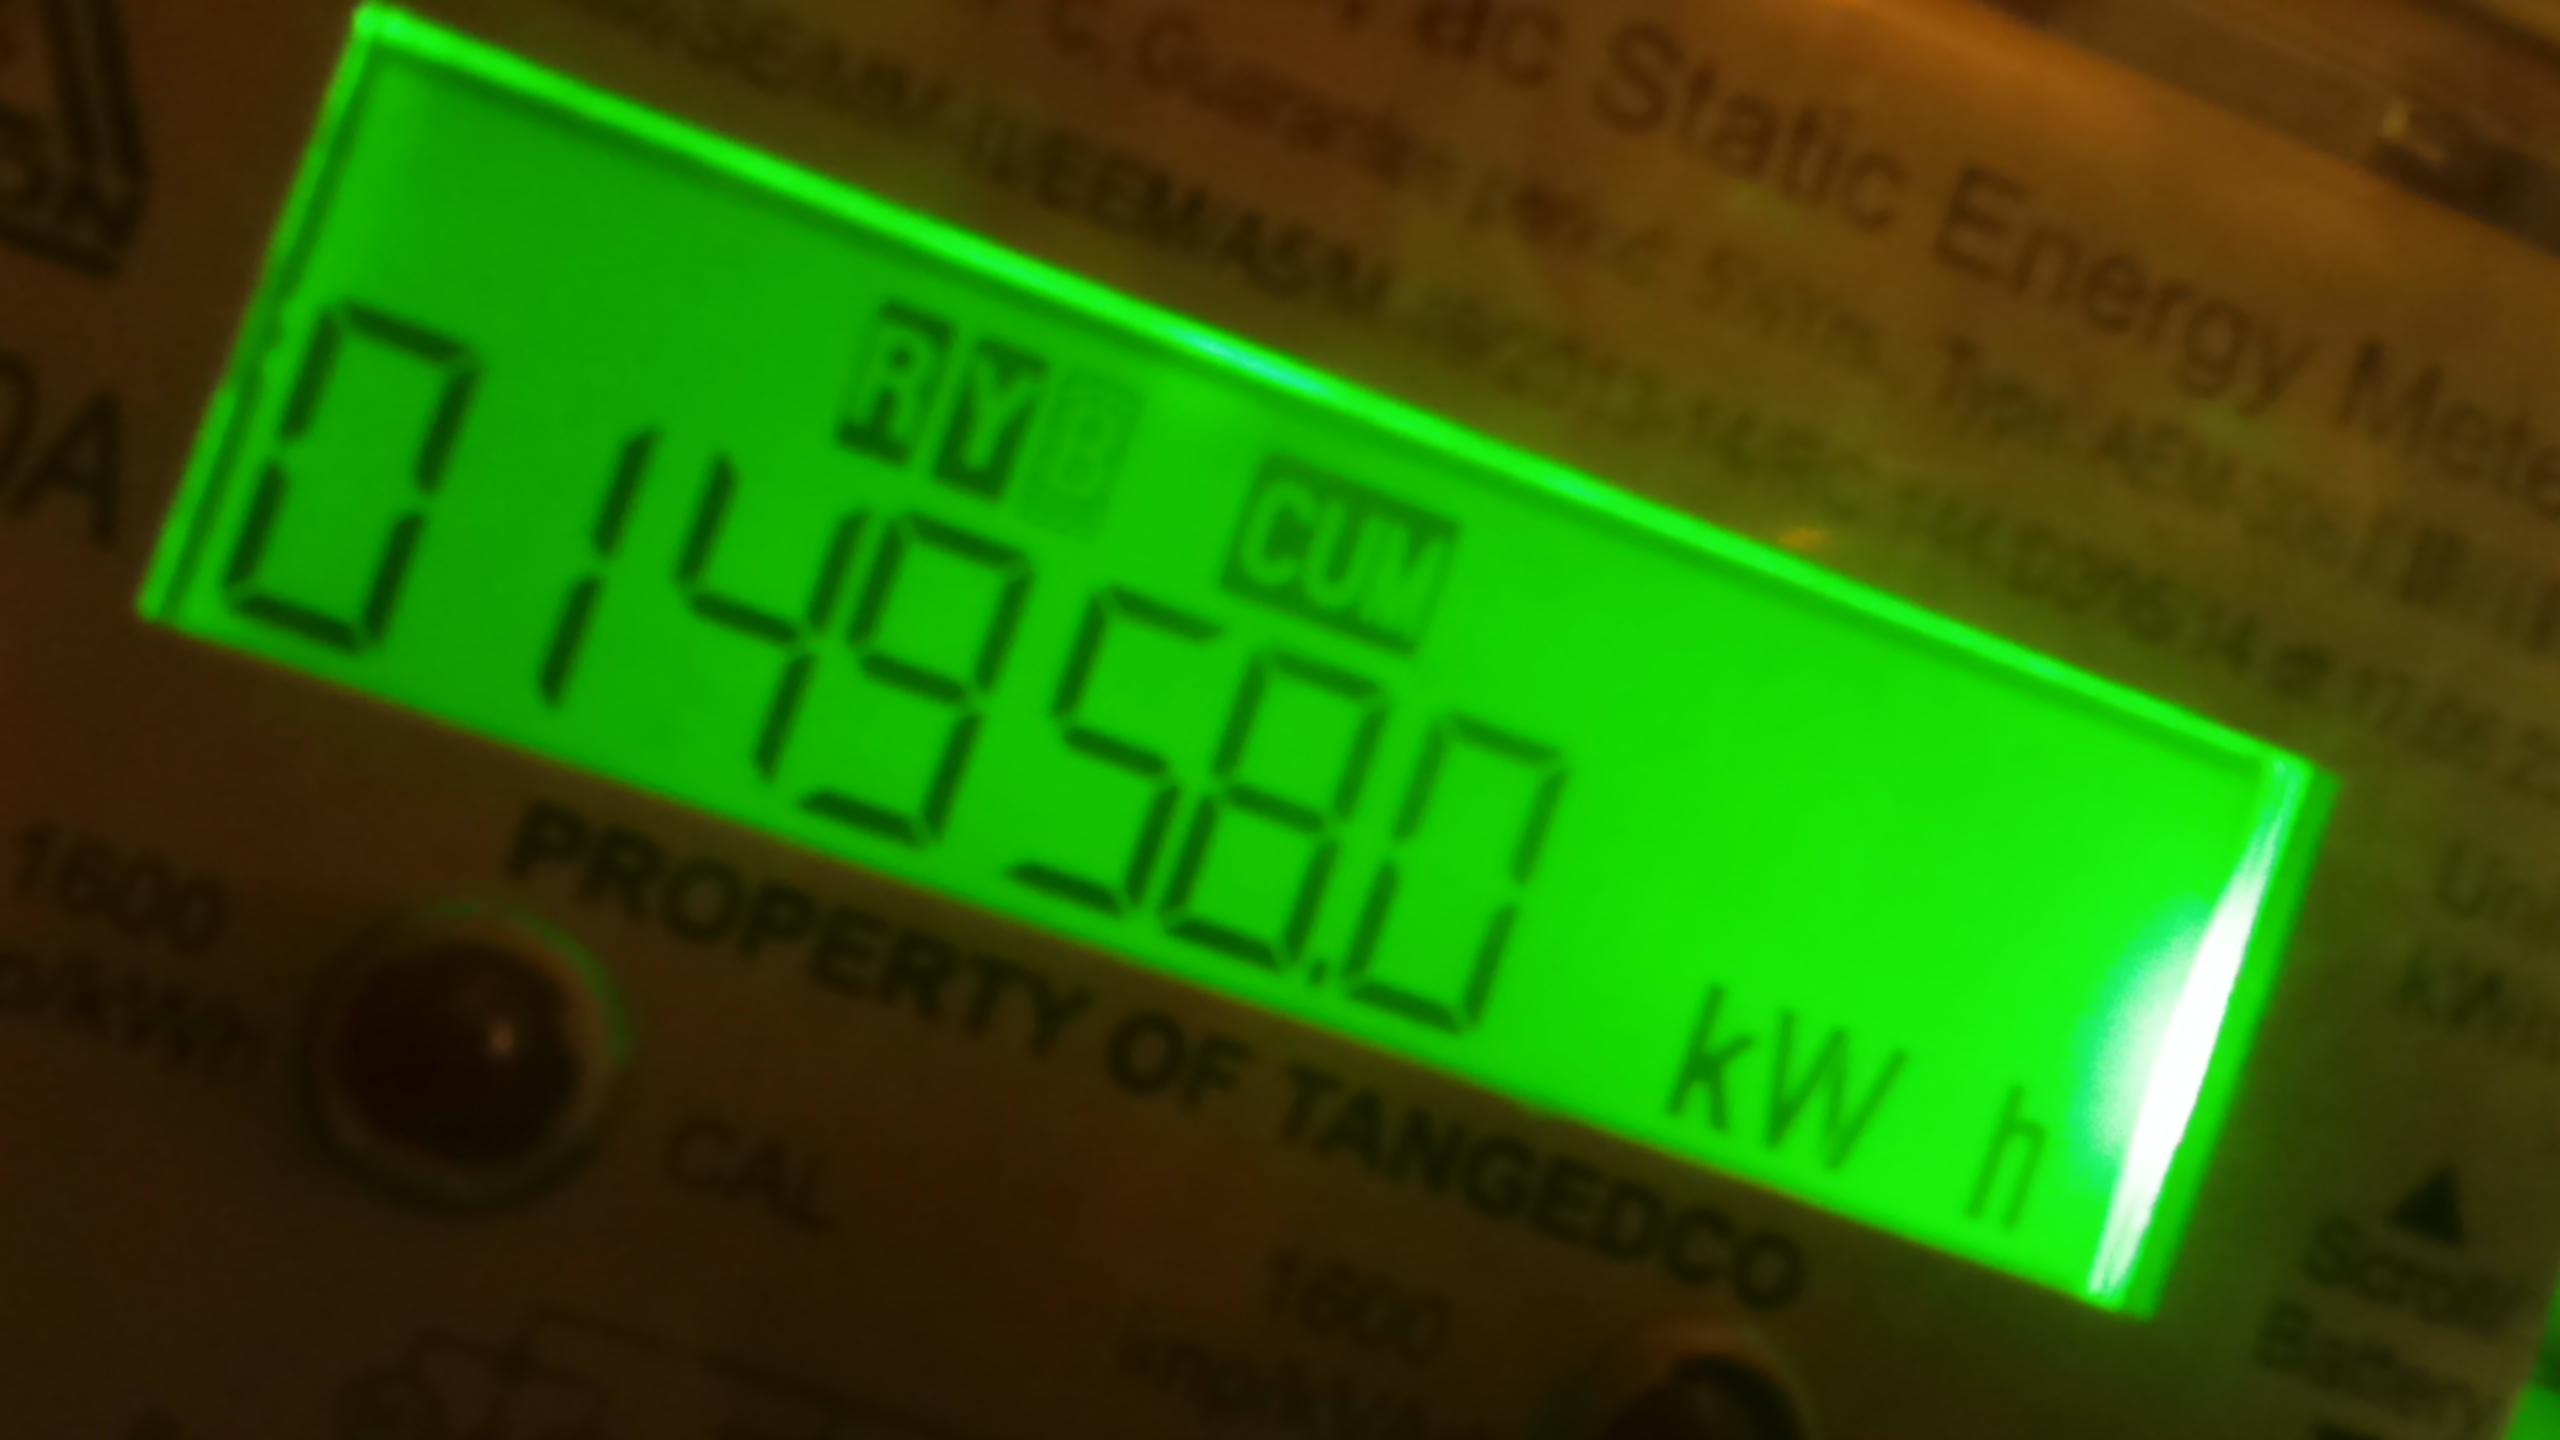.: (1665, 976, 2054, 1257)
0: (1261, 928, 1371, 1022)
1: (178, 288, 531, 689), (1347, 693, 1588, 1032)
2: (520, 373, 687, 742)
5: (608, 433, 902, 789)
6: (1011, 584, 1241, 925)
9: (1148, 638, 1417, 1020)
:: (774, 524, 1062, 860)
